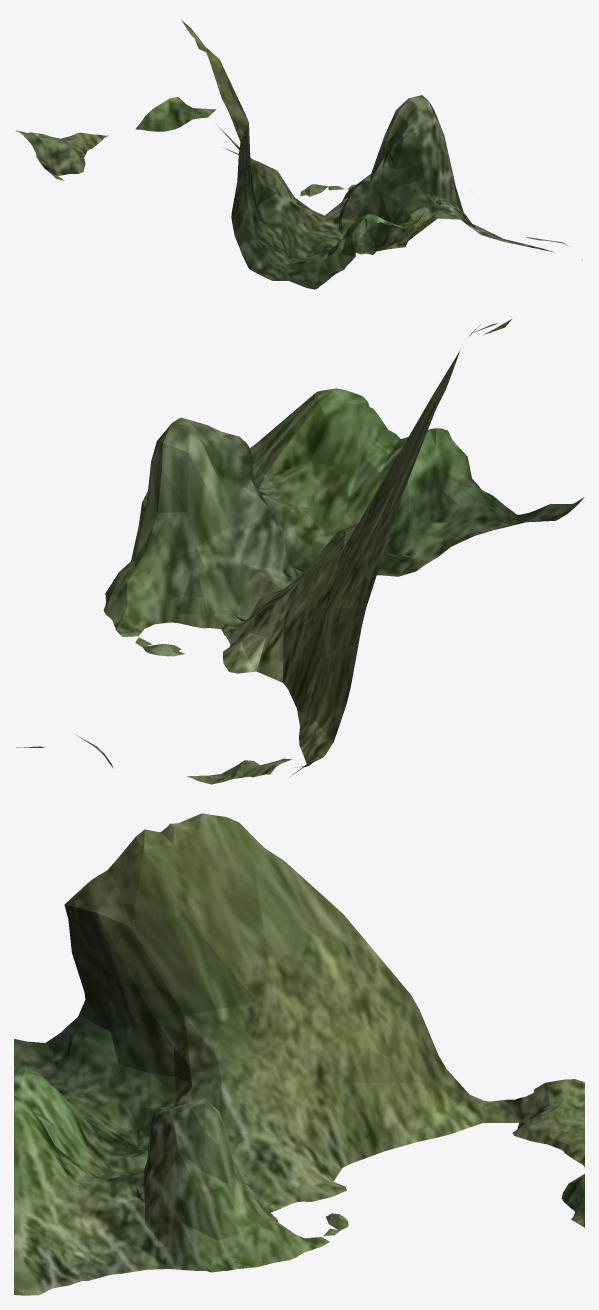
3 renders of one model, top to bottom at view 1: azimuth 30°, elevation 25°; view 2: azimuth 150°, elevation 25°; view 3: azimuth 270°, elevation 25°, orthographic. The views are drawn at different scales.
Bounding box in the file's own units: 4.43 × 3.43 × 5.9.
Materials: 2 (2 with a texture image).
